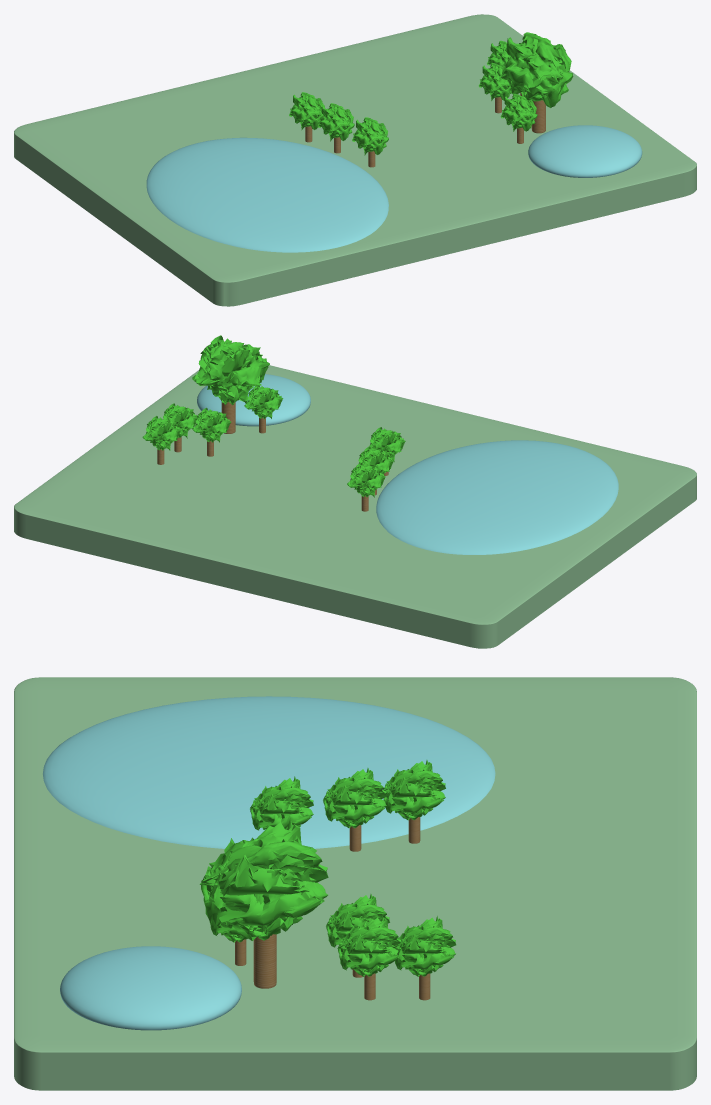
Rendered from park5.glb.
3 renders of one model, top to bottom at view 1: azimuth 30°, elevation 25°; view 2: azimuth 150°, elevation 25°; view 3: azimuth 270°, elevation 25°, orthographic. The views are drawn at different scales.
Visible parts, largest first — view 1: land, water, water 1, Torus 3, Torus 2, Torus, Torus 1; view 2: land, water, water 1, Torus 3, Torus 2, Torus, Torus 1; view 3: land, water, water 1, Torus 3 (×6), Torus 2 (×7), Torus 1, Torus, stump.
Boxes of the visible parts, x1=… form: land: x1=14, y1=14, x2=696, y2=306; water: x1=146, y1=137, x2=388, y2=252; water 1: x1=528, y1=125, x2=642, y2=177; Torus 3: x1=499, y1=56, x2=568, y2=107; Torus 2: x1=519, y1=32, x2=573, y2=101; Torus: x1=507, y1=37, x2=564, y2=86; Torus 1: x1=508, y1=44, x2=571, y2=96; land: x1=14, y1=365, x2=696, y2=648; water: x1=376, y1=440, x2=618, y2=554; water 1: x1=197, y1=374, x2=310, y2=426; Torus 3: x1=192, y1=355, x2=269, y2=393; Torus 2: x1=203, y1=338, x2=253, y2=404; Torus: x1=207, y1=344, x2=262, y2=400; Torus 1: x1=198, y1=335, x2=251, y2=405; land: x1=14, y1=677, x2=696, y2=1090; water: x1=43, y1=696, x2=495, y2=848; water 1: x1=60, y1=946, x2=241, y2=1030; Torus 3 (×6): x1=201, y1=769, x2=455, y2=970; Torus 2 (×7): x1=209, y1=769, x2=456, y2=971; Torus 1: x1=199, y1=854, x2=309, y2=904; Torus: x1=201, y1=818, x2=302, y2=940; stump: x1=253, y1=934, x2=276, y2=988.
Bounding box in the file's own units: 1.95 × 0.4572 × 1.5.
43 materials, 8 textured.
